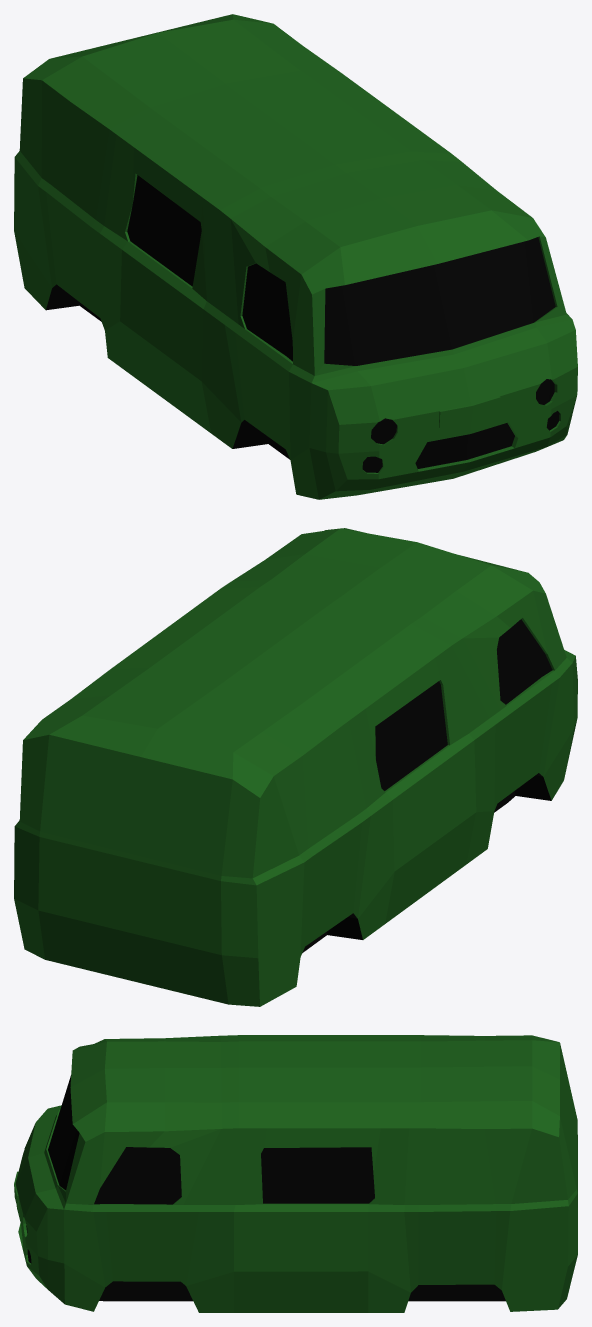
Rendered from buhanka.fbx.
3 renders of one model, top to bottom at view 1: azimuth 30°, elevation 25°; view 2: azimuth 150°, elevation 25°; view 3: azimuth 270°, elevation 25°, orthographic. The views are drawn at different scales.
Visible parts, largest first — view 1: Cube; view 2: Cube; view 3: Cube.
Part boxes in pixels (x1=…): Cube: x1=14, y1=14, x2=577, y2=499; Cube: x1=14, y1=528, x2=577, y2=1006; Cube: x1=14, y1=1035, x2=577, y2=1312.
Size of the model in its own units: 389 by 326 by 839.
